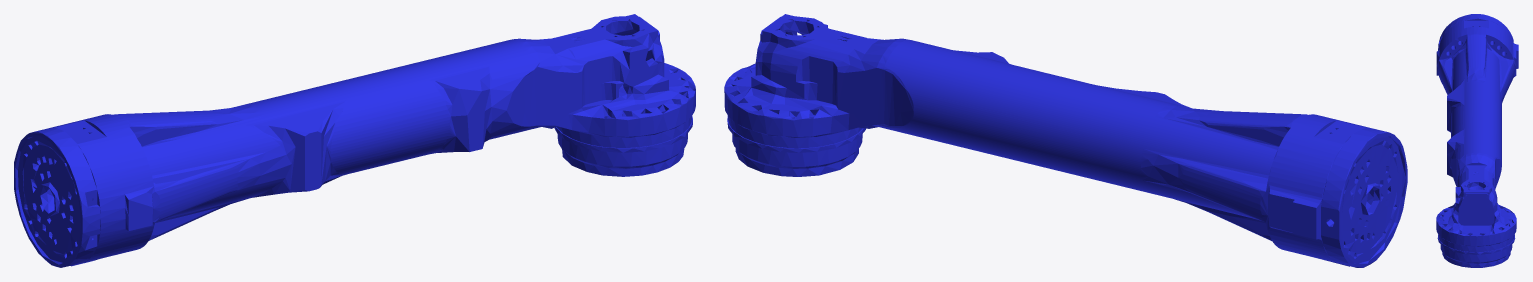
3 renders of one model, left to right at view 1: azimuth 30°, elevation 25°; view 2: azimuth 150°, elevation 25°; view 3: azimuth 270°, elevation 25°, orthographic. The views are drawn at different scales.
Visible parts, largest first — view 1: /Link4/Link4_001-mesh/0; view 2: /Link4/Link4_001-mesh/0; view 3: /Link4/Link4_001-mesh/0.
Part boxes in pixels (x1,y1,x2,y2): /Link4/Link4_001-mesh/0: (14, 14, 695, 267); /Link4/Link4_001-mesh/0: (724, 14, 1407, 267); /Link4/Link4_001-mesh/0: (1436, 14, 1518, 267).
Size of the model in its own units: 0.7842 by 0.1871 by 0.159.
